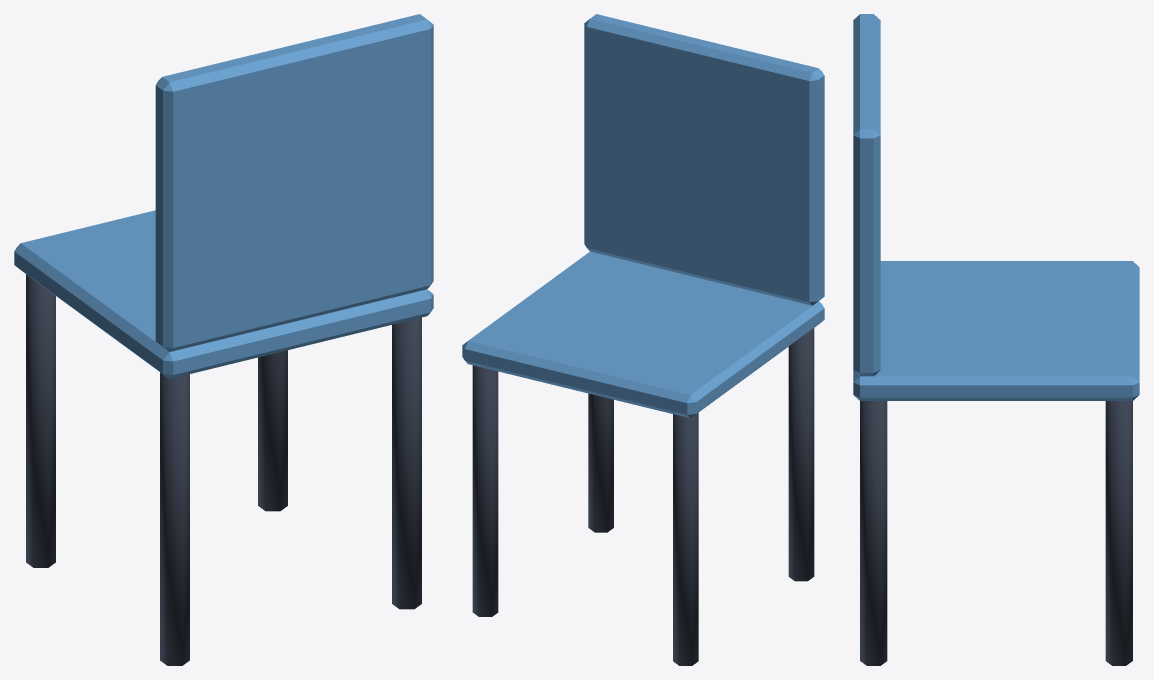
The model's file is chair.glb.
3 views of the same model, side by side, from view 1: azimuth 30°, elevation 25°; view 2: azimuth 150°, elevation 25°; view 3: azimuth 270°, elevation 25° (orthographic). The views are drawn at different scales.
Visible parts, largest first — view 1: chair_back, chair, chair_leg0, chair_leg1, chair_leg2, chair_leg3; view 2: chair_back, chair, chair_leg3, chair_leg0, chair_leg2, chair_leg1; view 3: chair, chair_back, chair_leg1, chair_leg3.
Part boxes in pixels (x1,y1,x2,y2): chair_back: [155, 14, 433, 351]; chair: [14, 210, 433, 378]; chair_leg0: [160, 372, 189, 665]; chair_leg1: [392, 317, 421, 609]; chair_leg2: [26, 274, 55, 567]; chair_leg3: [258, 350, 287, 511]; chair_back: [584, 14, 824, 305]; chair: [462, 251, 824, 418]; chair_leg3: [472, 365, 498, 616]; chair_leg0: [788, 328, 814, 581]; chair_leg2: [673, 412, 698, 665]; chair_leg1: [588, 393, 613, 532]; chair: [853, 261, 1139, 400]; chair_back: [853, 14, 880, 376]; chair_leg1: [860, 401, 887, 665]; chair_leg3: [1105, 401, 1132, 665].
Bounding box in the file's own units: 0.42 × 0.87 × 0.42.
